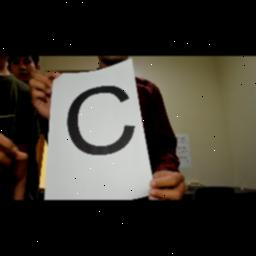c: (58, 82, 138, 156)
